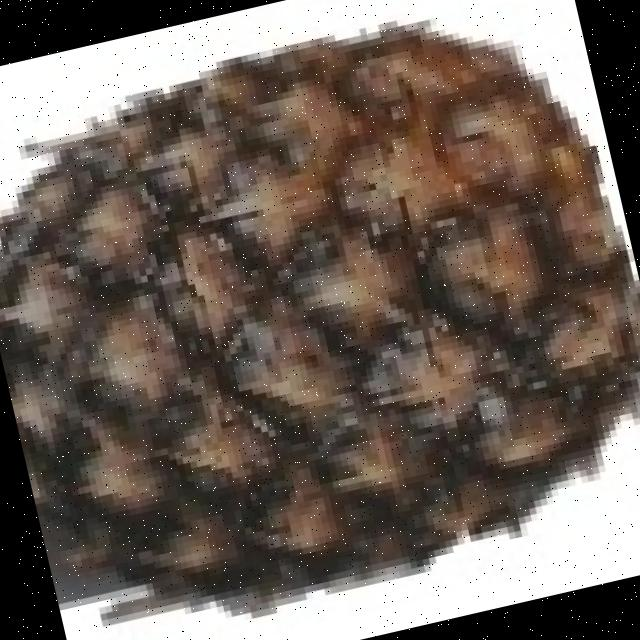pineapple: (0, 24, 640, 611)
